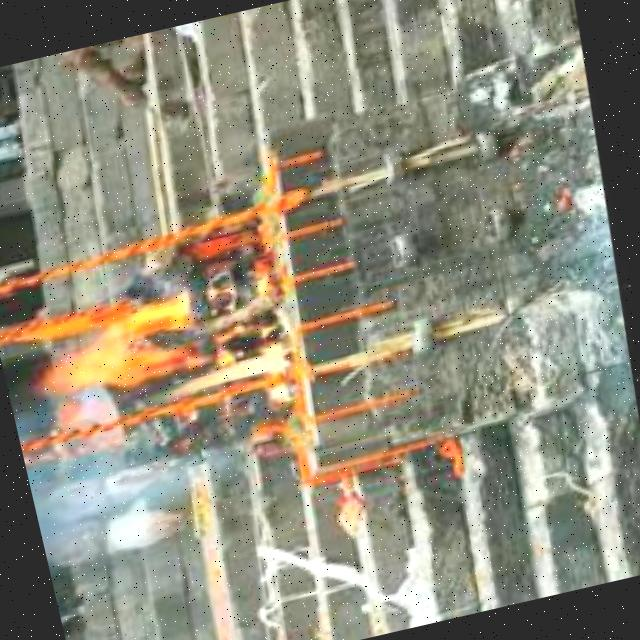fire: (17, 266, 307, 438)
